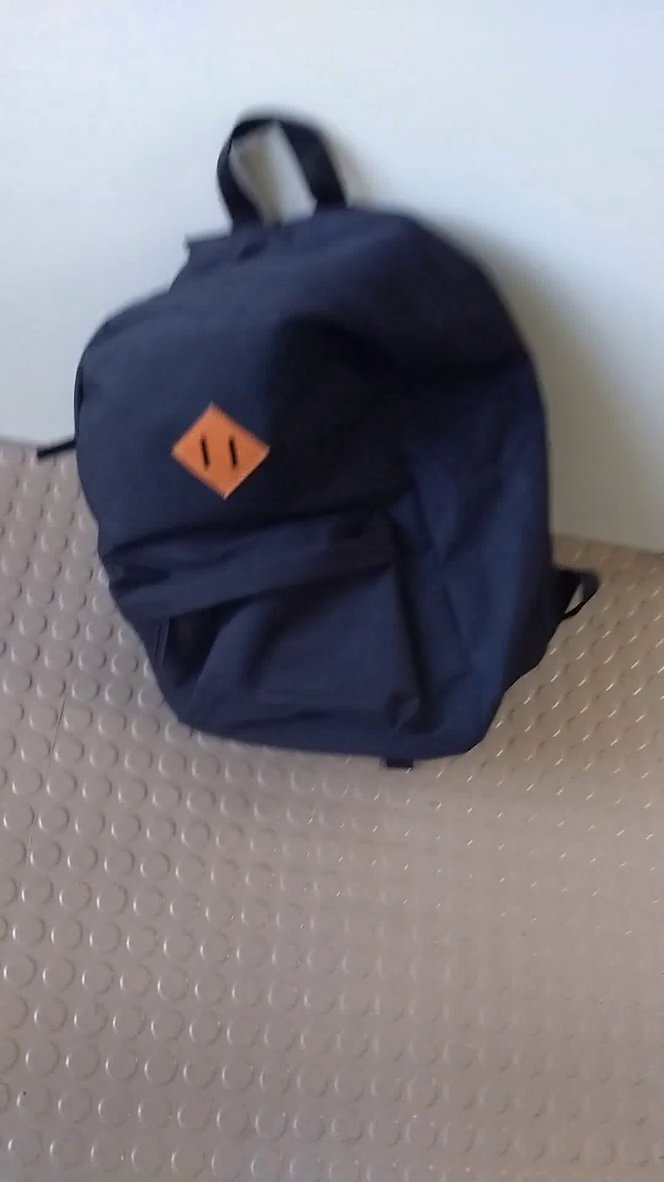bag: (27, 89, 624, 787)
